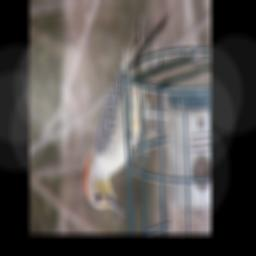Woodpecker: (81, 10, 171, 219)
